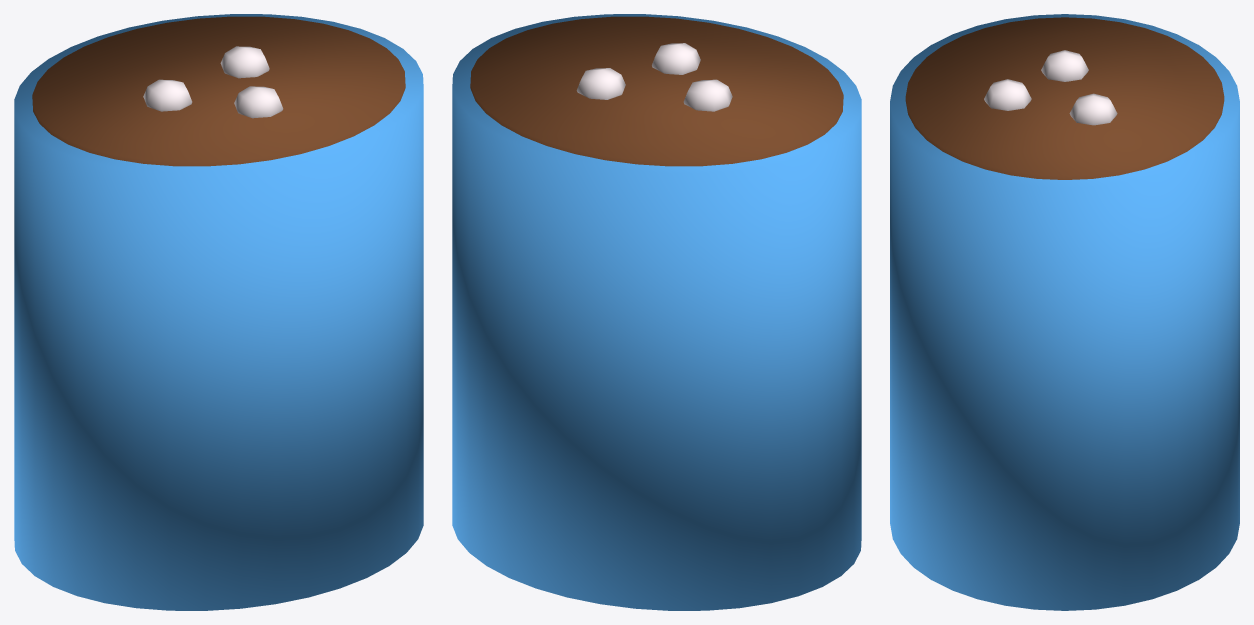
Rendered from tb_mat_kakao.glb.
The picture shows the model from 3 angles, left to right: view 1: azimuth 30°, elevation 25°; view 2: azimuth 150°, elevation 25°; view 3: azimuth 270°, elevation 25°; orthographic projection. The views are drawn at different scales.
Parts seen in each view (by area): view 1: matkropp; view 2: matkropp; view 3: matkropp.
Boxes of the visible parts, x1=… form: matkropp: x1=14, y1=14, x2=423, y2=610; matkropp: x1=452, y1=14, x2=861, y2=610; matkropp: x1=890, y1=14, x2=1239, y2=610.
Size of the model in its own units: 0.72 by 0.8635 by 0.612.
